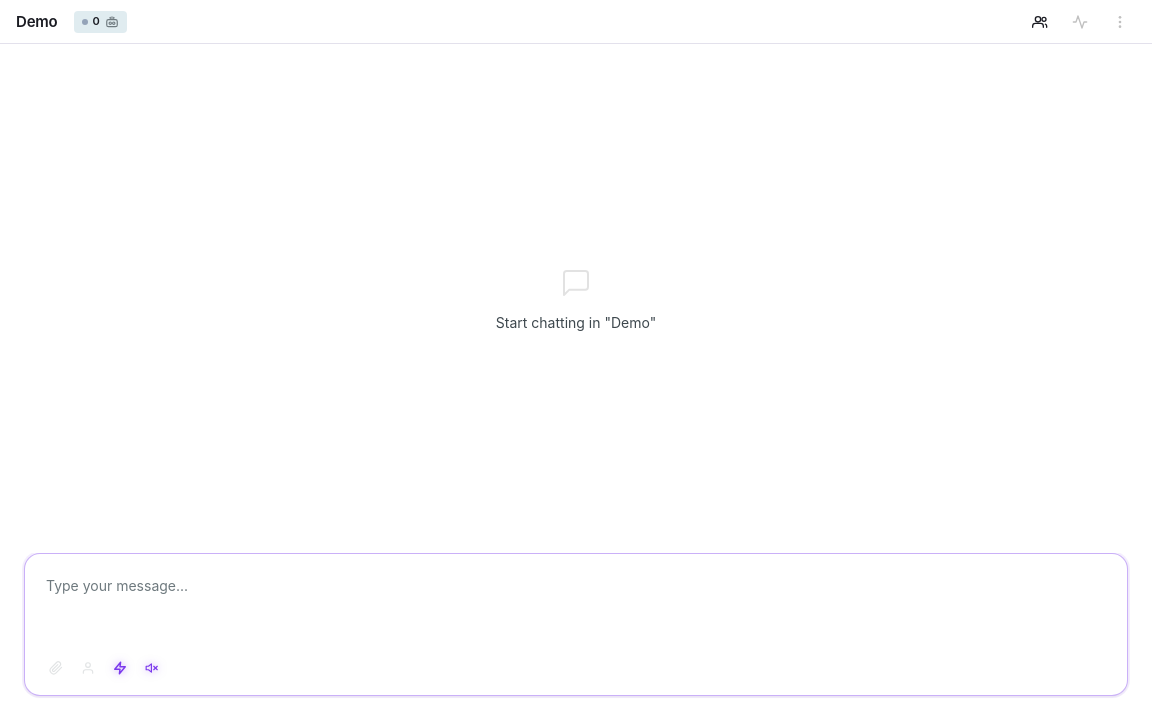
Test: ChatArea divider rendering › shows a clickable brainstorm interrupt icon next to the bolt while discussion is active
What coordinates should you click on to do the following:
click the button named "Interrupt Brainstorm"
I would click on:
 (152, 668)
Its box is [138,654,166,682].
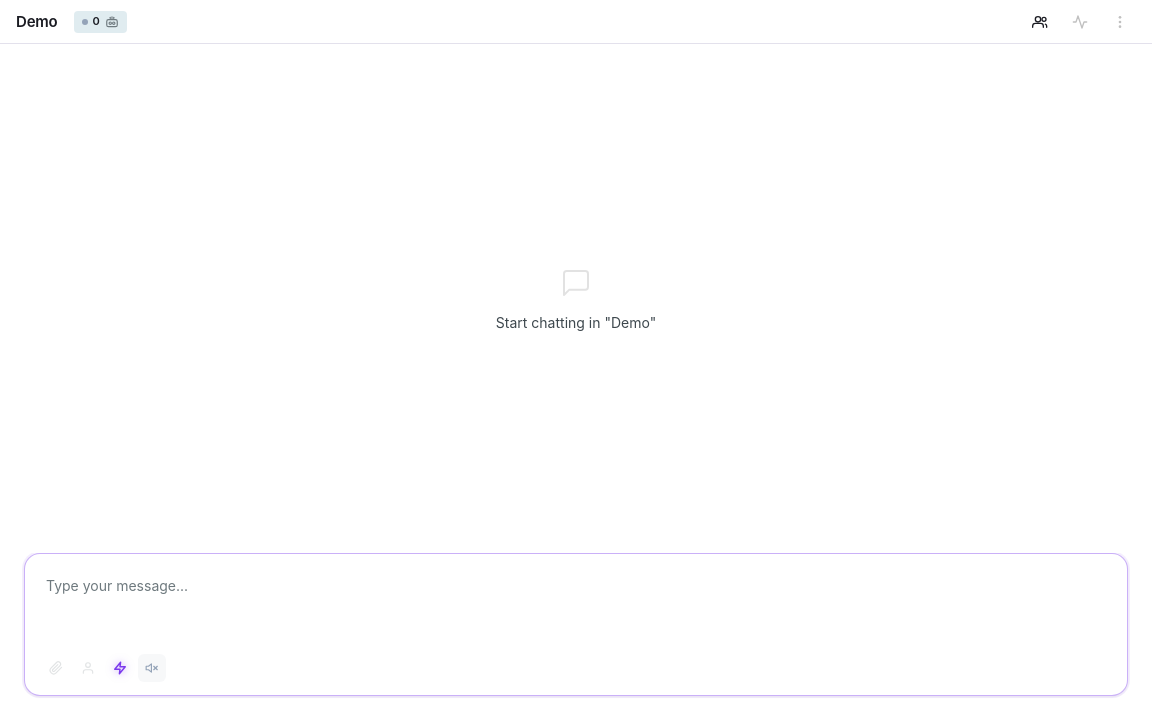
Expected: the button named "Interrupt Brainstorm" is disabled, [138,654,166,682]
